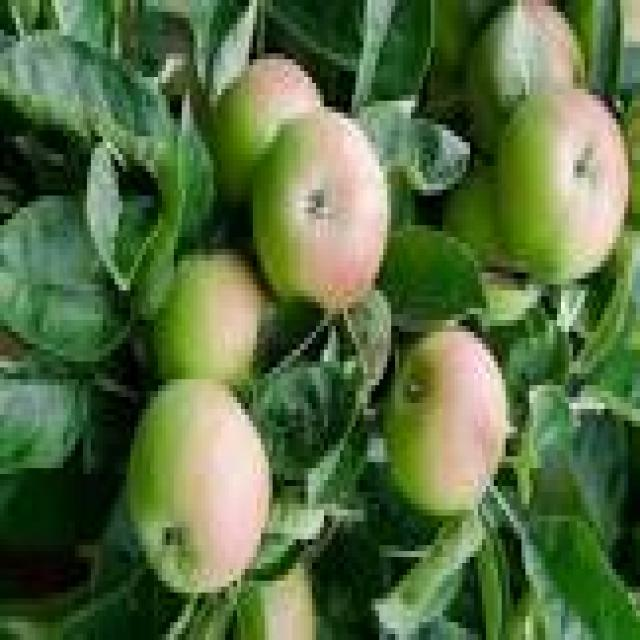apple: (126, 379, 269, 587), (253, 107, 387, 308), (494, 89, 624, 279), (383, 326, 506, 510), (205, 53, 320, 201), (466, 0, 581, 142), (150, 249, 265, 379)
